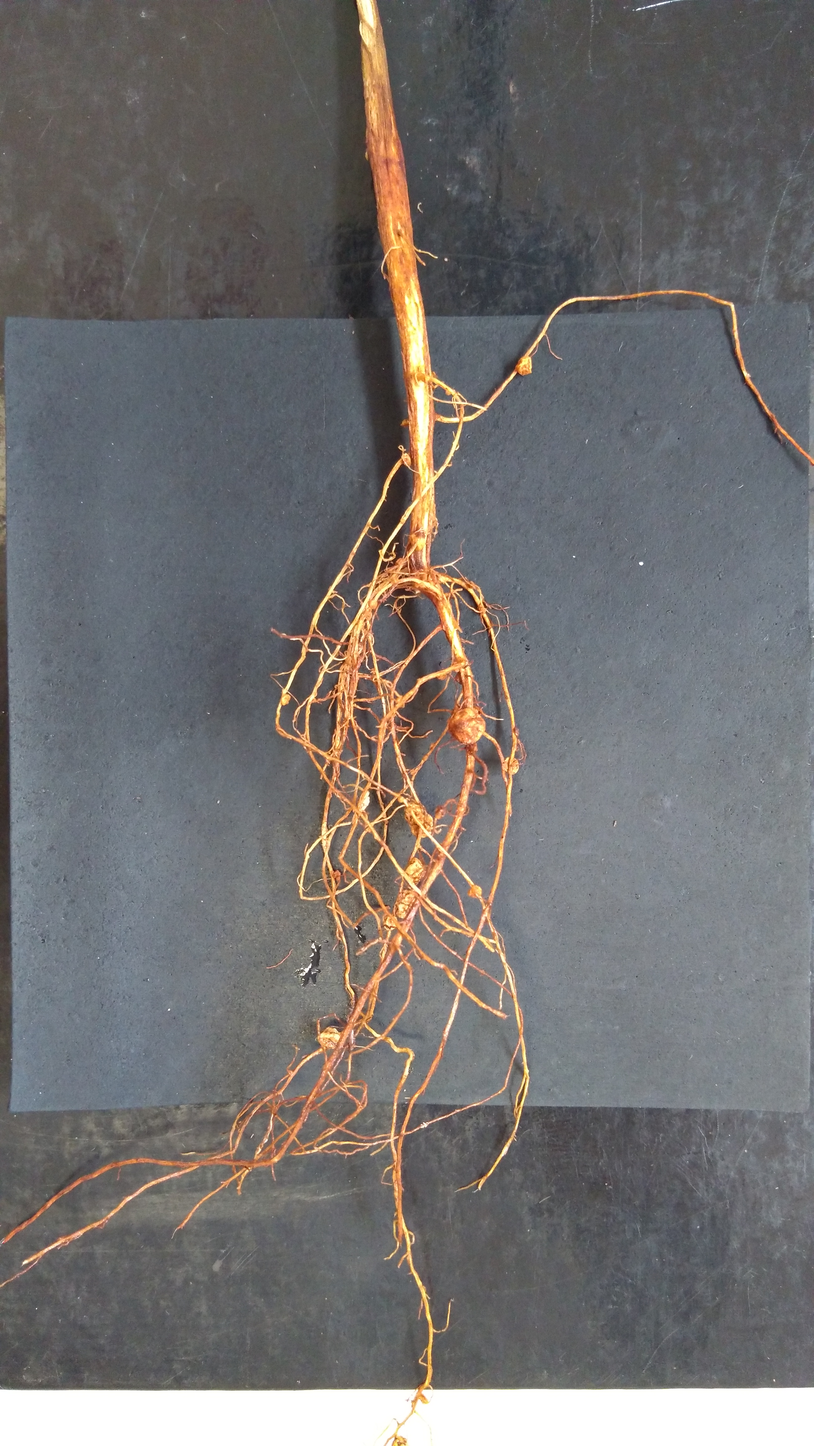nodule: (446, 707, 487, 747), (404, 804, 434, 841), (403, 855, 426, 888), (393, 889, 416, 920), (316, 1026, 342, 1049), (513, 354, 534, 377), (501, 754, 520, 776), (409, 529, 428, 551), (381, 912, 398, 932), (466, 883, 484, 901), (358, 789, 370, 812), (402, 452, 412, 469), (367, 599, 379, 611), (280, 694, 292, 706), (453, 670, 463, 684), (399, 418, 410, 430), (363, 609, 374, 620), (395, 557, 405, 568), (330, 868, 341, 878), (437, 673, 447, 680)
